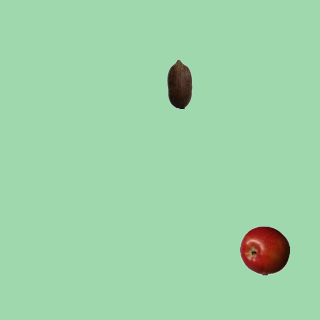Apple Braeburn: (239, 225, 289, 275)
Nut Pecan: (154, 58, 204, 108)
